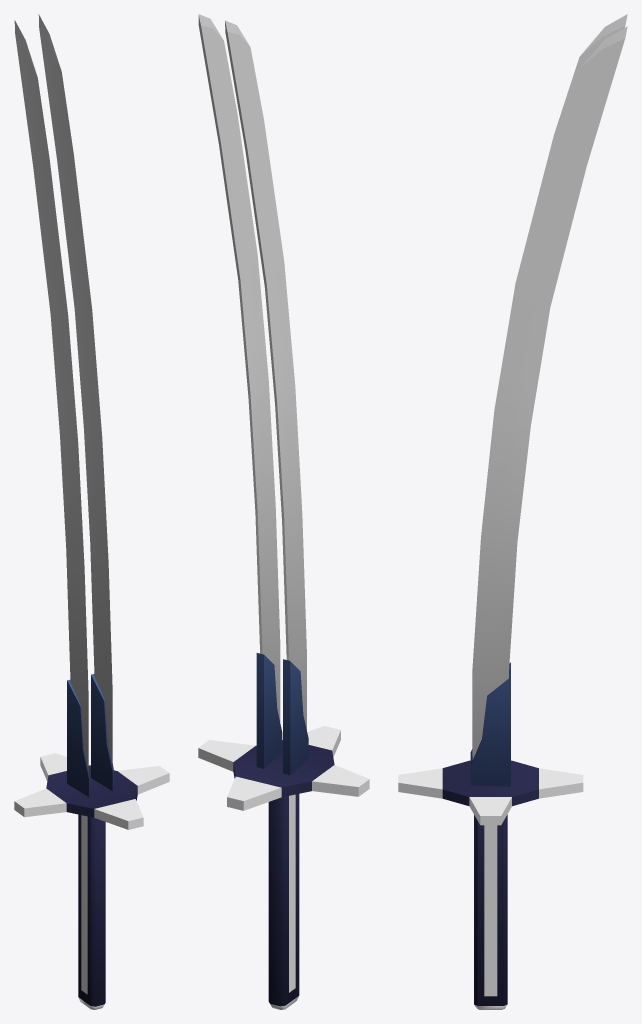
File: Weapon_samurai_sword.fbx
3 renders of one model, left to right at view 1: azimuth 30°, elevation 25°; view 2: azimuth 150°, elevation 25°; view 3: azimuth 270°, elevation 25°, orthographic. The views are drawn at different scales.
Parts seen in each view (by area): view 1: W_DK_3; view 2: W_DK_3; view 3: W_DK_3.
Part boxes in pixels (bbox=[...]): W_DK_3: bbox=[14, 14, 169, 1009]; W_DK_3: bbox=[198, 14, 369, 1009]; W_DK_3: bbox=[398, 14, 627, 1009].
Size of the model in its own units: 21.72 by 134 by 28.32.
